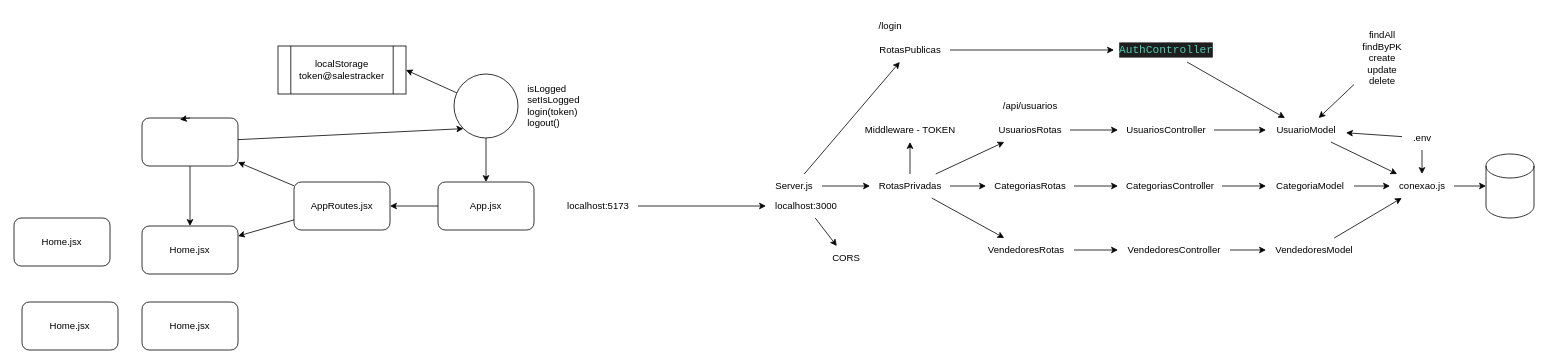
The diagram is 1548 pixels wide and 364 high, and some of its shapes have lost their labels. The centre of each missing label's shape, as x and y in pixels:
AuthContext: (485,105)
BD: (1509,185)
Login.jsx: (189,141)
